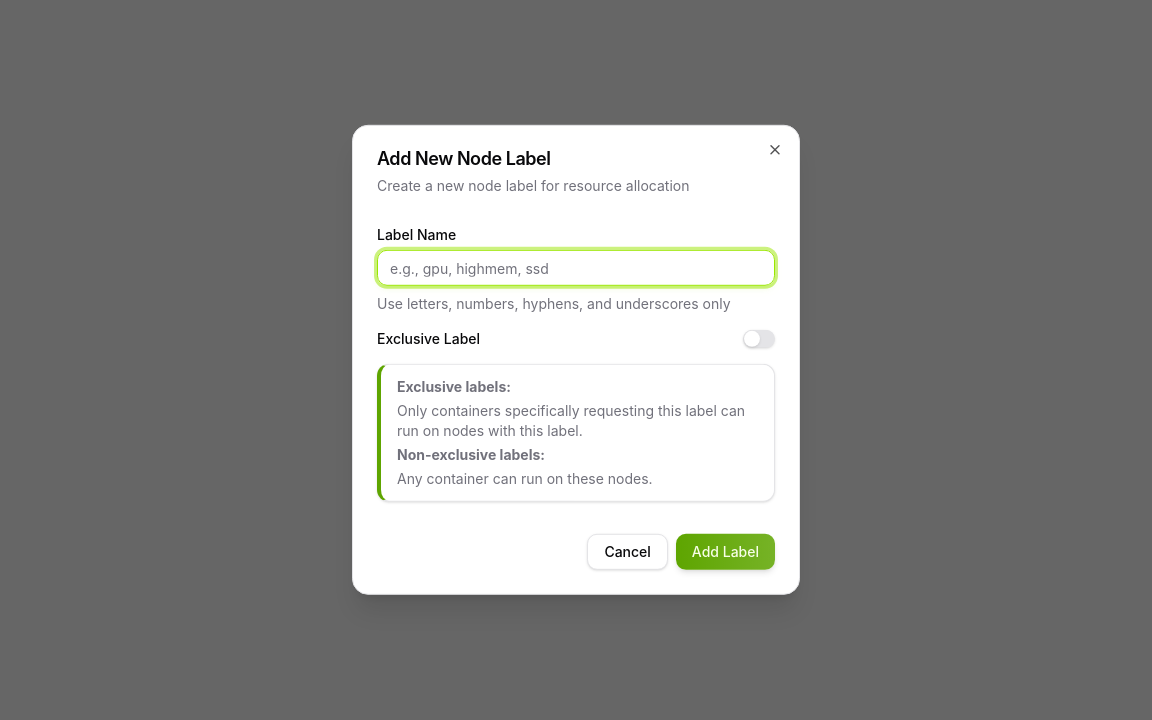
Test case: AddLabelDialog › Input interactions › should clear error when typing
The image size is (1152, 720).
Note: Trigger validation error
Click the button "Add Label": click(725, 552) [676,534,775,570]
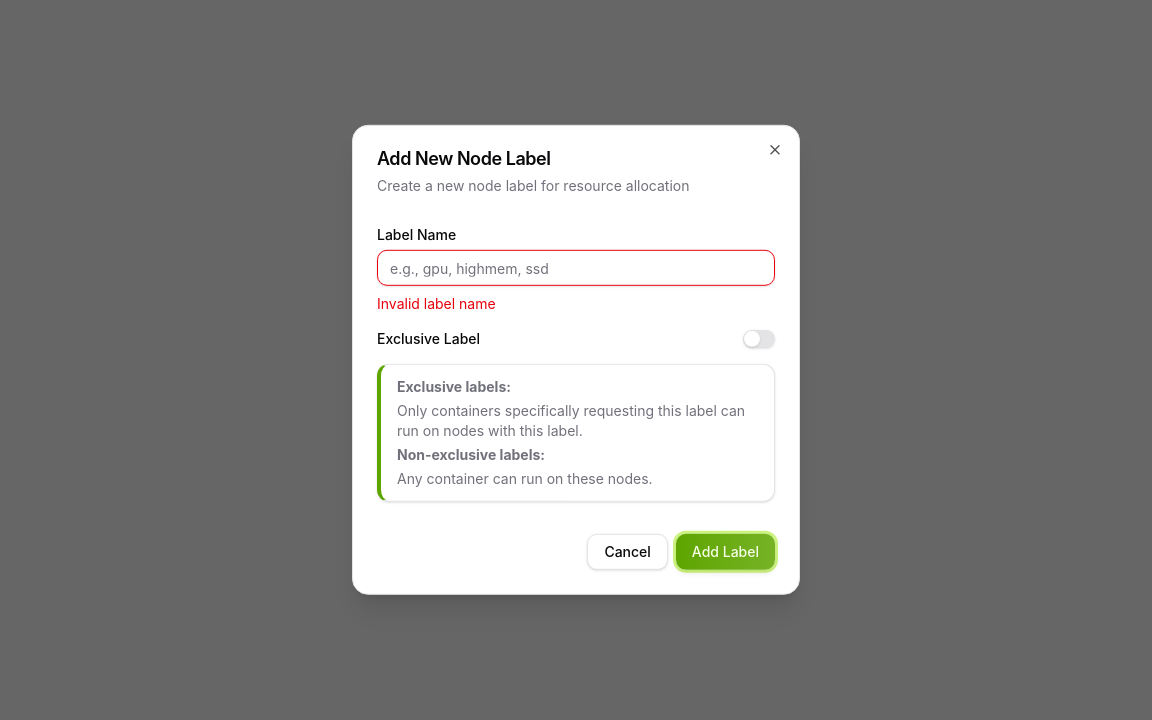
Expected: the text "Invalid label name" is shown, [377,295,496,312]
Note: Start typing to clear error
In the field with placeholder "e.g., gpu, highmem, ssd": (576, 268) [377,250,775,286], type "a"
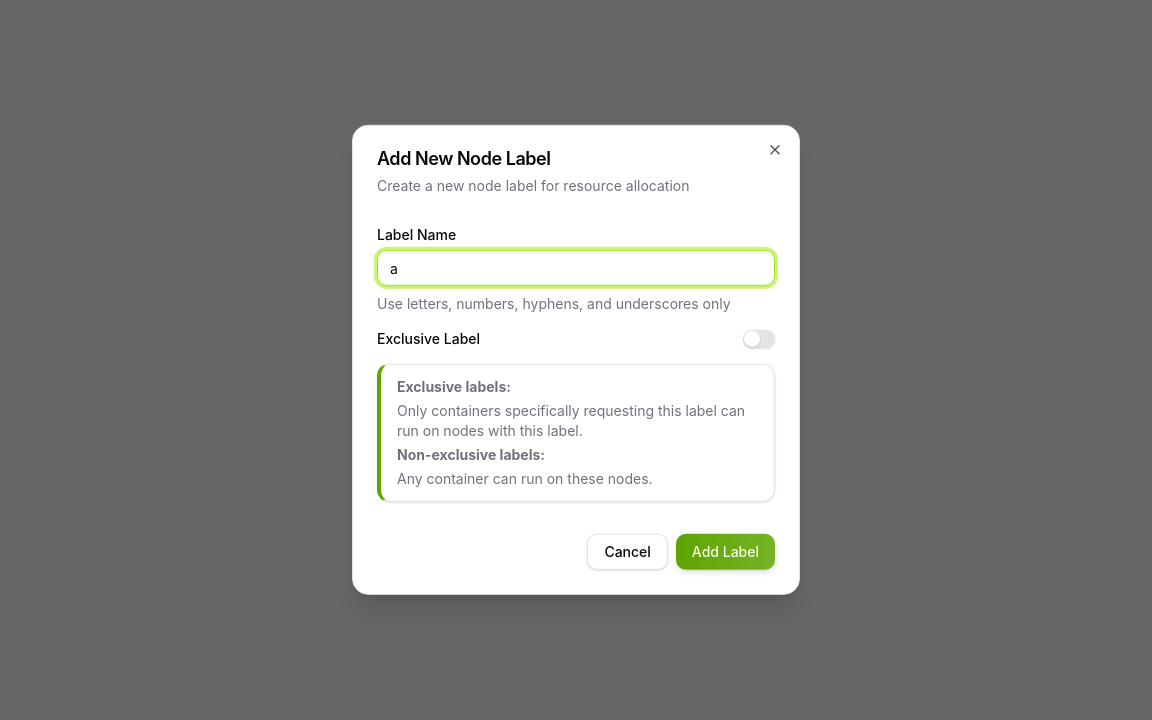
Expected: the text "Invalid label name" is gone
